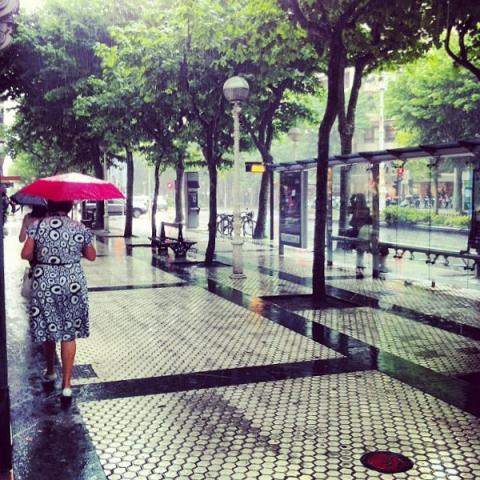car: (87, 197, 147, 218), (157, 197, 168, 211)
